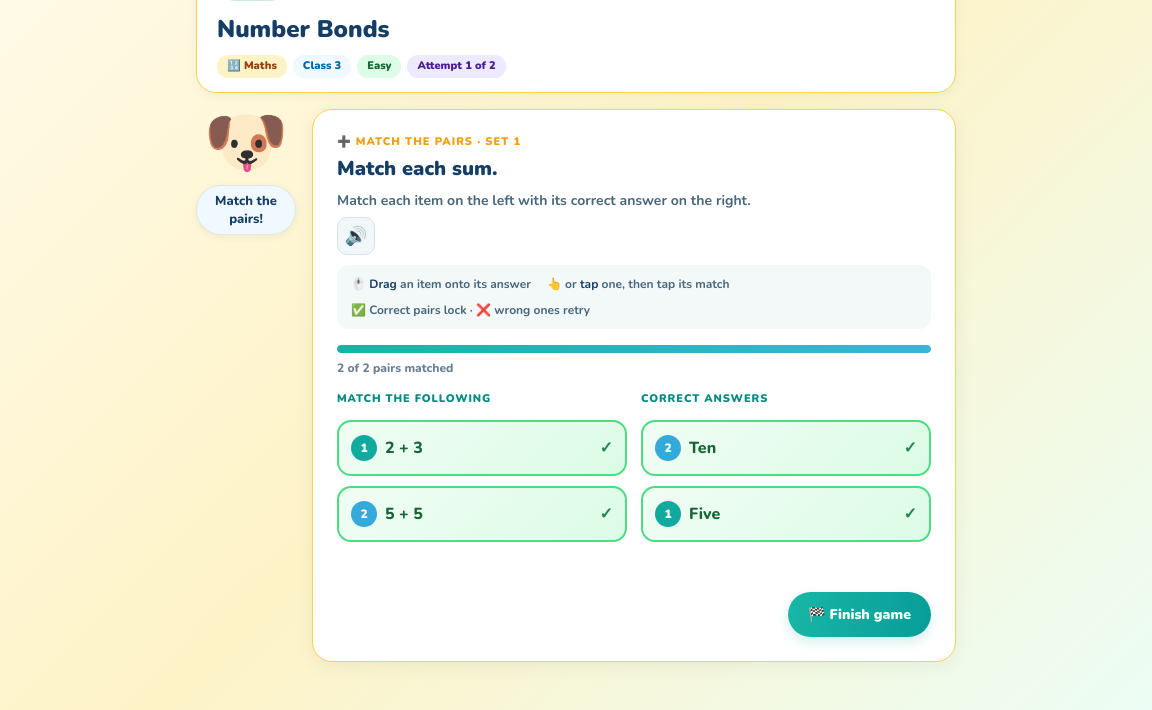
a failed submission shows an error and allows trying again
(page scrolled)
Click the button "🏁 Finish game".
click(859, 614)  # box [788,592,931,636]
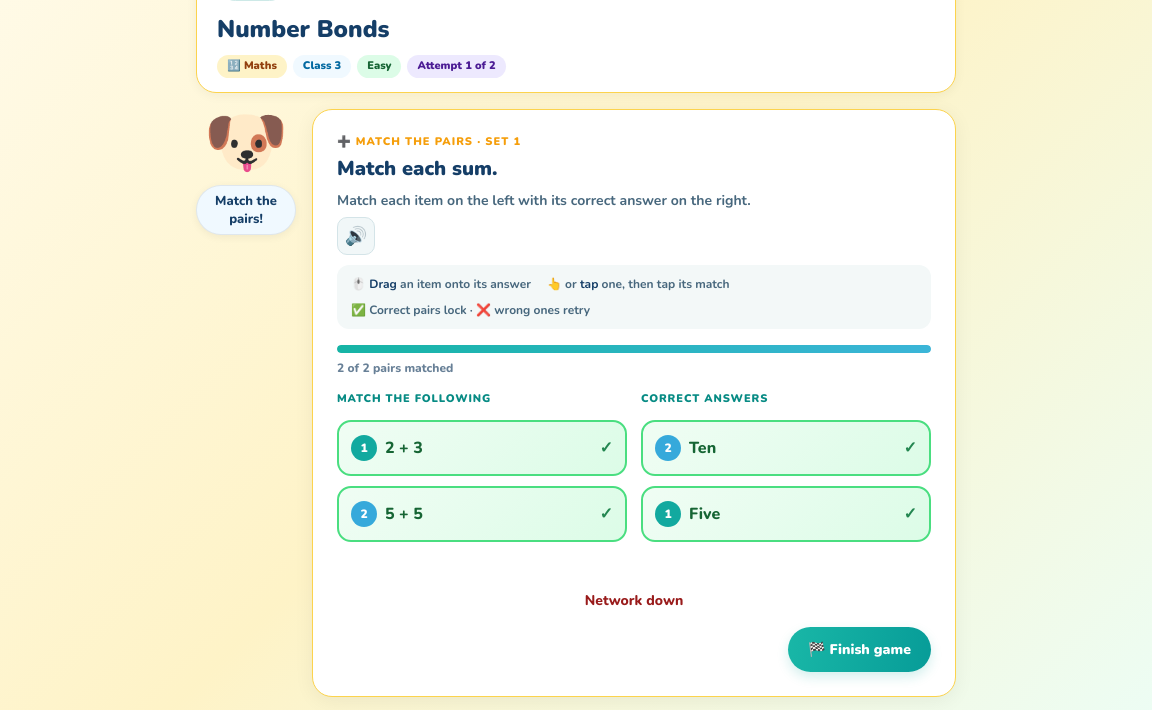
Check: the message "Network down" is shown, box [585,590,683,610]
Click the button "🏁 Finish game".
click(859, 649)  # box [788,626,931,672]
(page scrolled)
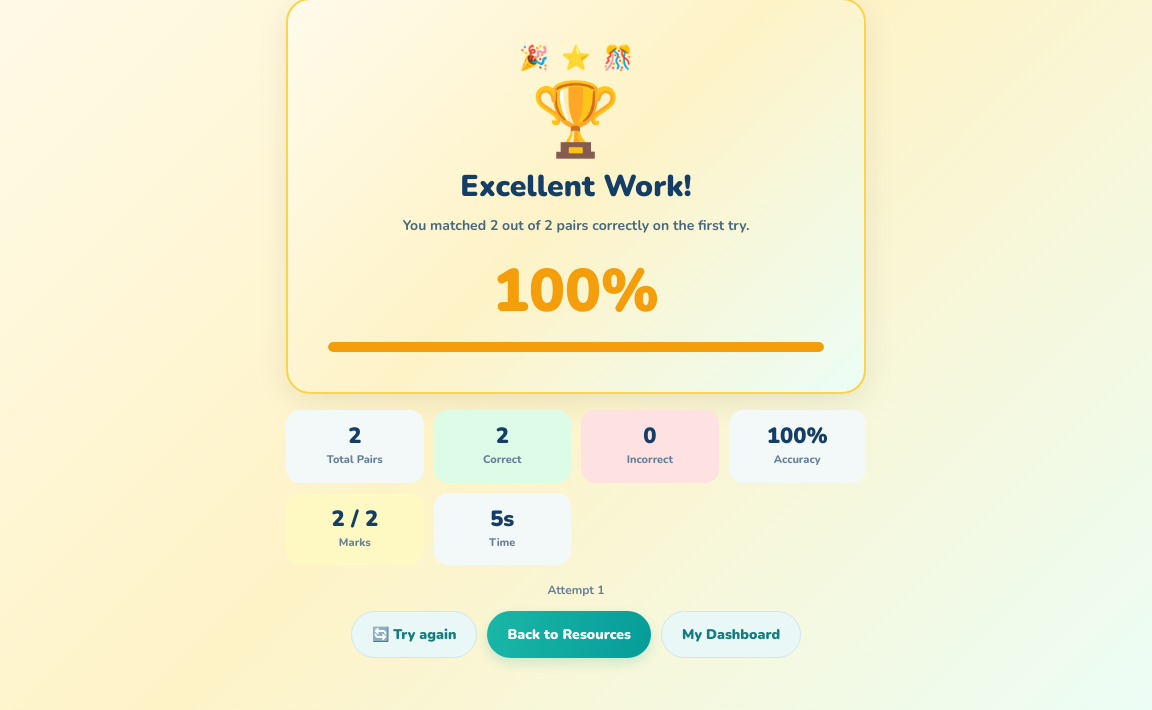
Check: the heading "Excellent Work!" is shown, box [460,166,692,207]
